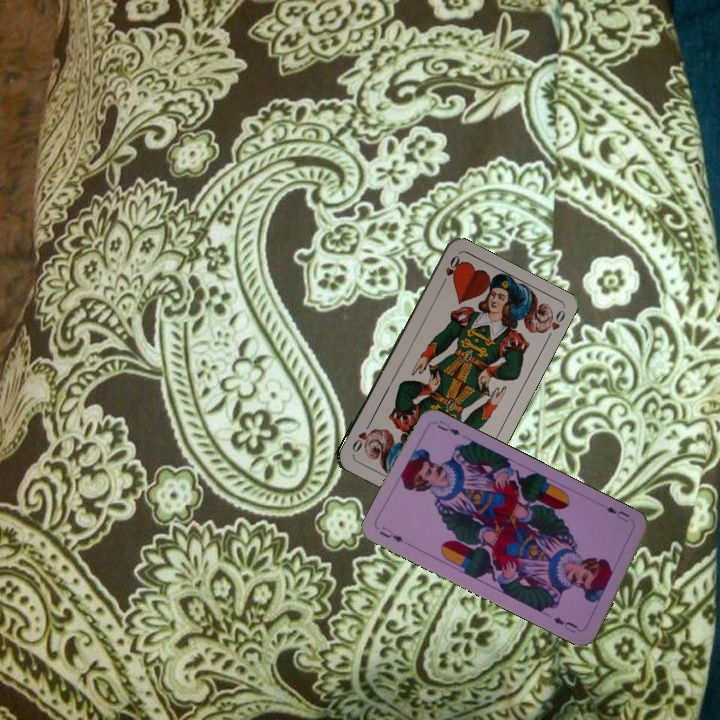EU: (375, 522, 406, 545), (602, 502, 632, 525)
HO: (437, 251, 462, 289)
